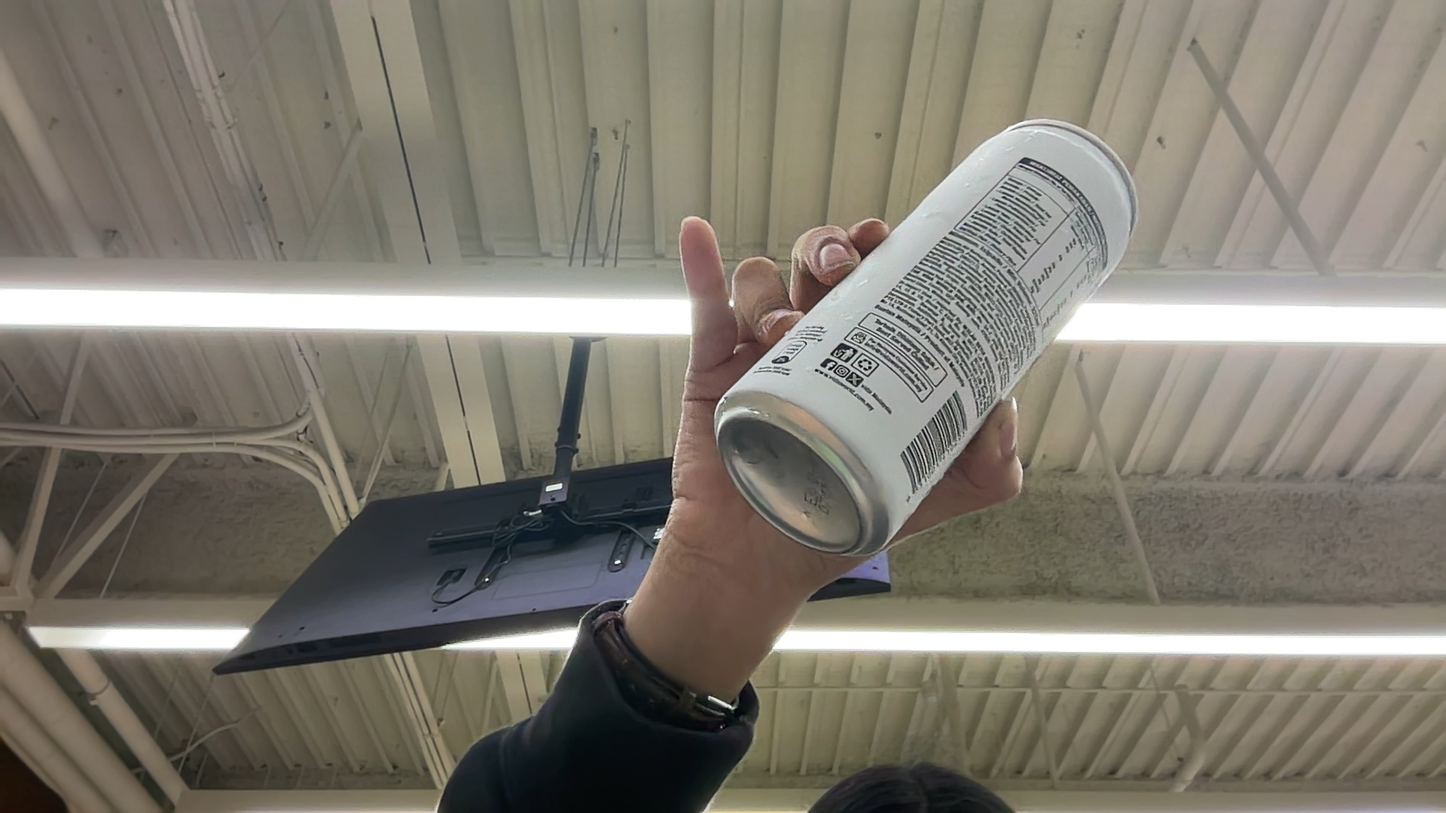Metal: (675, 116, 1173, 566)
